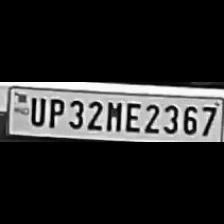2: (84, 97, 103, 130), (142, 100, 160, 134)
3: (64, 96, 84, 130), (160, 102, 178, 134)
6: (180, 102, 198, 134)
7: (199, 102, 217, 136)
E: (122, 100, 142, 132)
M: (104, 98, 122, 132)
P: (44, 96, 64, 128)
U: (27, 95, 46, 127)
